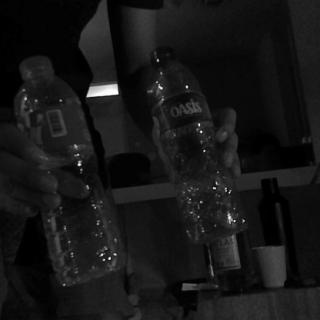plastic_bottles: (16, 56, 127, 282), (141, 49, 241, 230)
